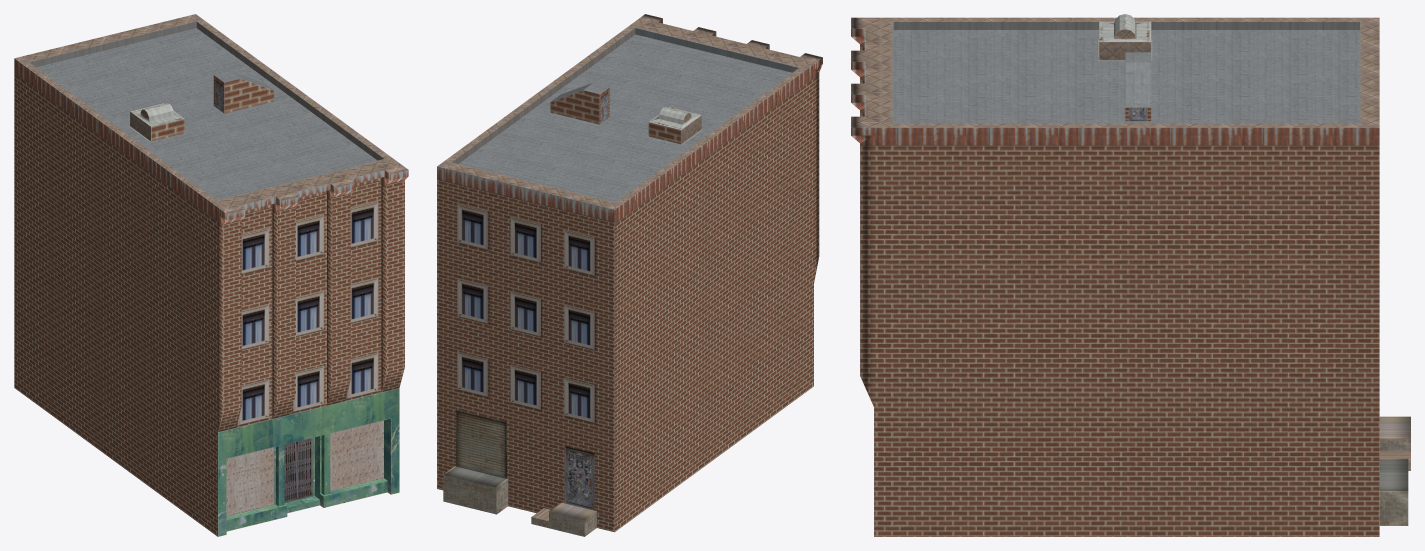
File: LargeApartmentBuildingModel.fbx
3 renders of one model, left to right at view 1: azimuth 30°, elevation 25°; view 2: azimuth 150°, elevation 25°; view 3: azimuth 270°, elevation 25°, orthographic. The views are drawn at different scales.
Visible parts, largest first — view 1: polySurface15; view 2: polySurface15; view 3: polySurface15.
Part boxes in pixels (x1,y1,x2,y2): polySurface15: (14,14,408,536); polySurface15: (437,14,822,536); polySurface15: (851,14,1410,536).
Bounding box in the file's own units: 10 × 18.64 × 21.5.
1 material, 1 textured.
